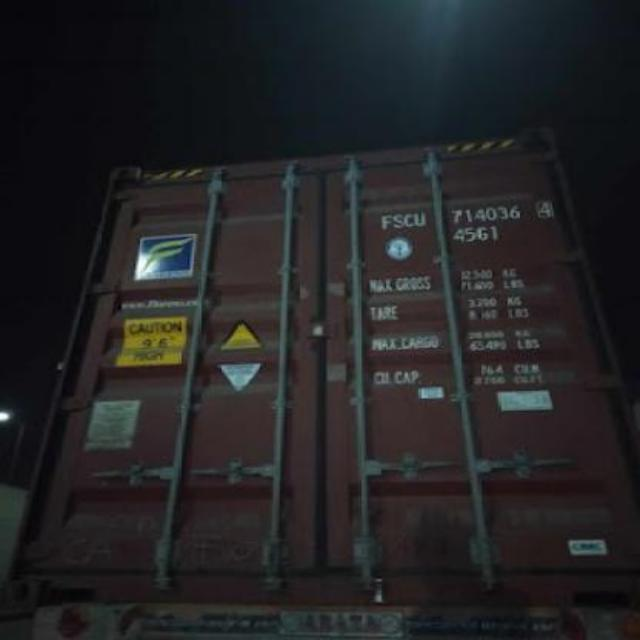0: (484, 205, 496, 223)
1: (461, 204, 474, 226)
3: (496, 199, 508, 225)
4: (532, 196, 554, 224), (474, 204, 486, 226)
6: (508, 198, 524, 226)
7: (448, 202, 462, 225)
C: (402, 205, 414, 231)
F: (376, 204, 392, 233)
S: (390, 208, 402, 232)
U: (414, 202, 428, 232)
